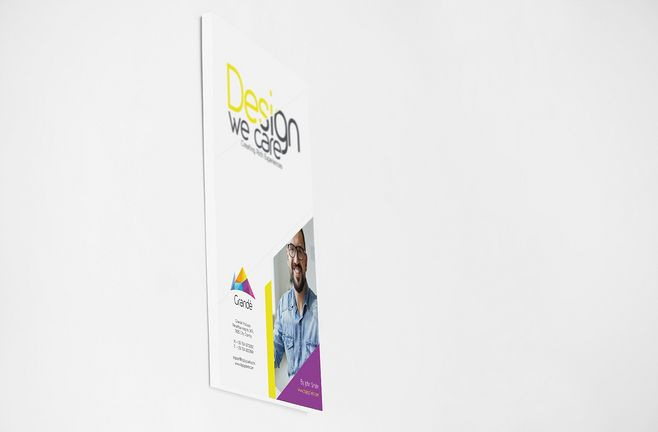bill: (201, 14, 326, 413)
